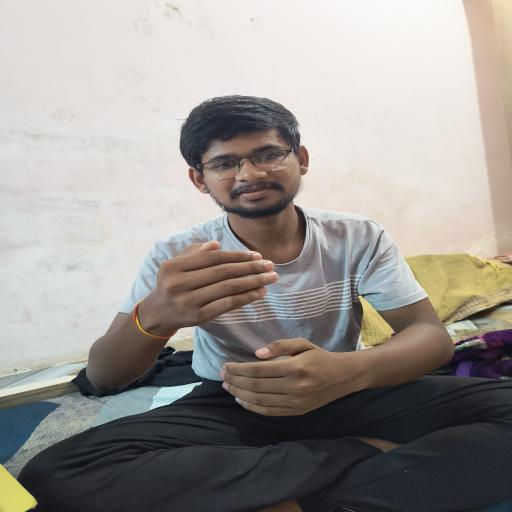Good: (96, 220, 408, 440)
